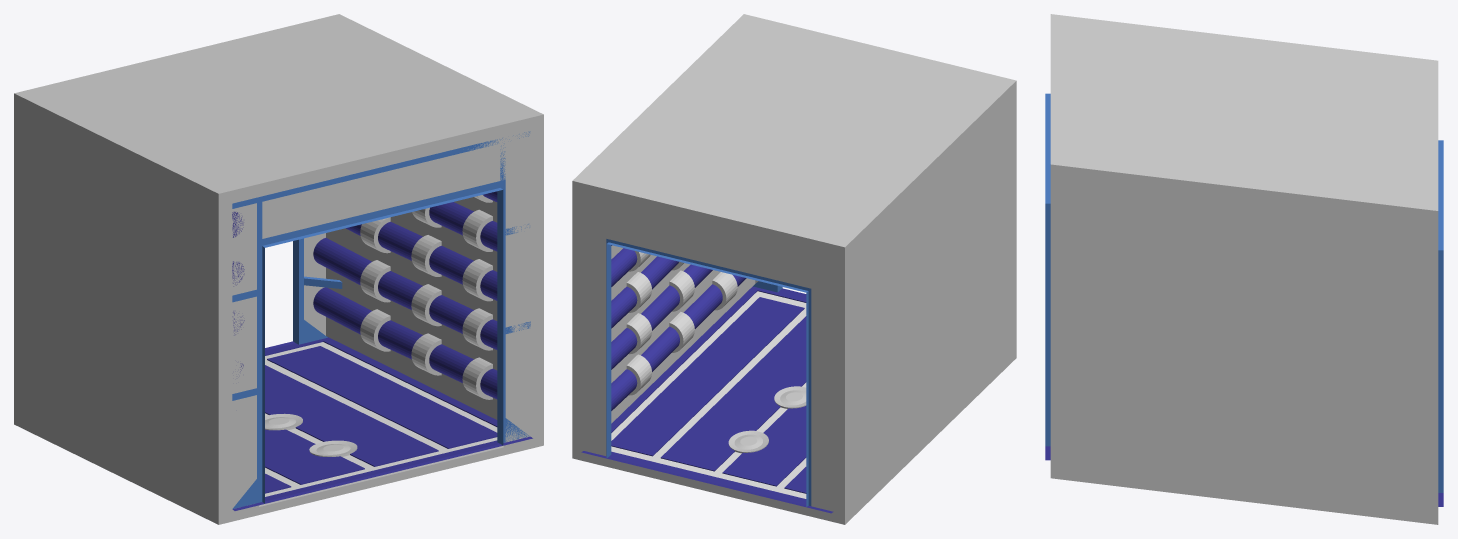
Rendered from CorridorRamp.fbx.
3 views of the same model, side by side, from view 1: azimuth 30°, elevation 25°; view 2: azimuth 150°, elevation 25°; view 3: azimuth 270°, elevation 25° (orthographic). The views are drawn at different scales.
Parts seen in each view (by area): view 1: Cube; view 2: Cube; view 3: Cube.
Part boxes in pixels (left/top/right/bottom): Cube: left=14, top=14, right=543, bottom=524; Cube: left=572, top=14, right=1016, bottom=524; Cube: left=1045, top=14, right=1443, bottom=524.
Bounding box in the file's own units: 691 × 772 × 773.
